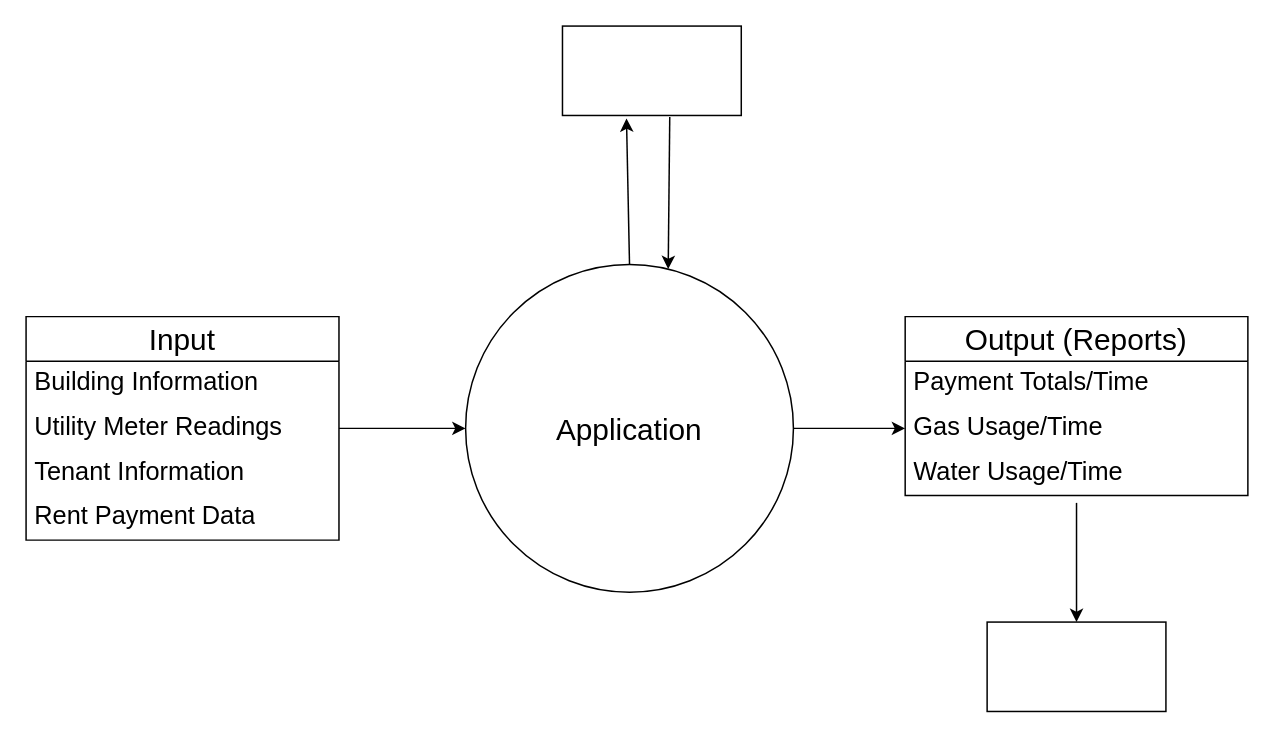
The diagram is 1274 pixels wide and 738 high, and some of its shapes have lost their labels. Here are the shapes that lost their labels. From the top down, the centre of each, then its label:
the point at 651,70: MySQL Database
the point at 1076,666: Printer
